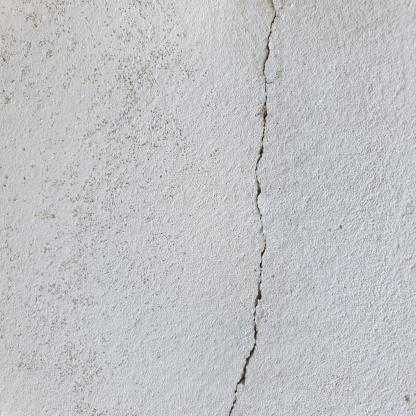crack: (229, 145, 266, 415), (261, 2, 276, 141)
